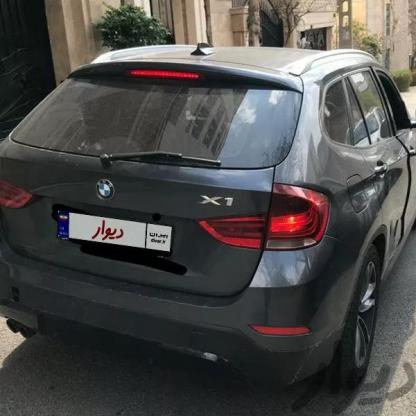Car: (0, 36, 416, 416)
